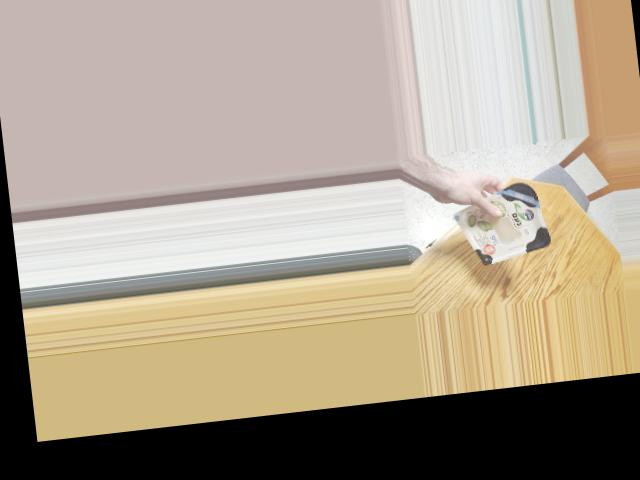cheese: (466, 182, 550, 264)
